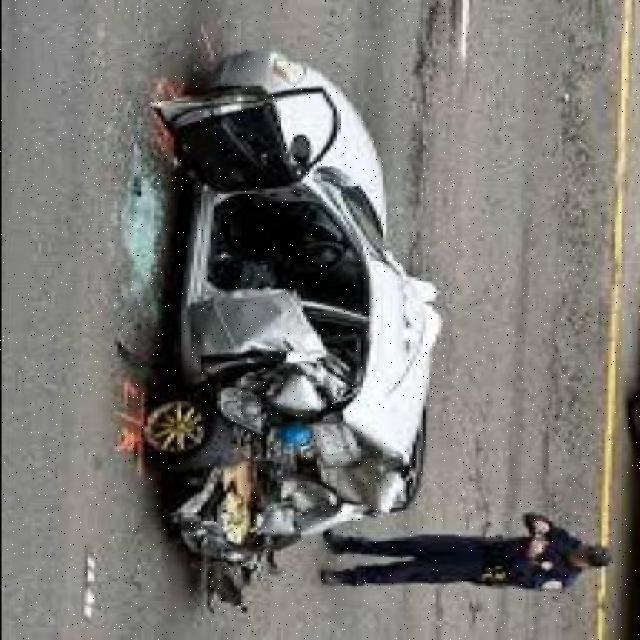damage: (161, 278, 434, 618)
